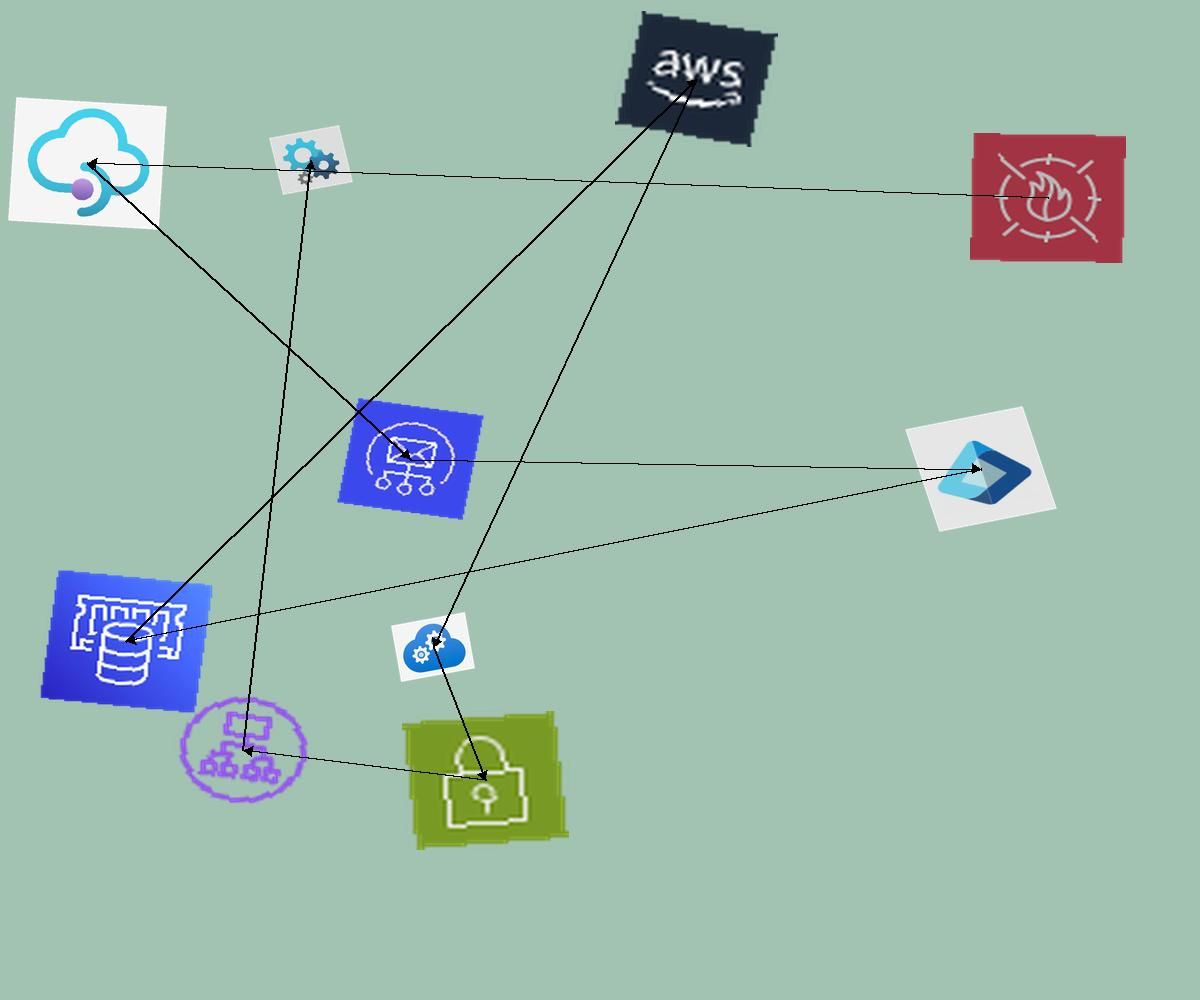AWS-Cloud-logo: (615, 11, 778, 147)
AWS-ElastiCache: (39, 569, 214, 714)
AWS-Public-subnet: (402, 711, 569, 850)
AWS-Res_Elastic-Load-Balancing_Application-Load-Balancer: (163, 683, 324, 817)
AWS-Simple-Email-Service: (336, 397, 485, 521)
AWS-WAF: (970, 133, 1126, 263)
Azure_api: (269, 125, 353, 195)
Azure_api_gateway: (8, 97, 167, 230)
Azure_cloud_services: (391, 612, 475, 682)
Azure_microsoft_entra: (905, 406, 1057, 532)
